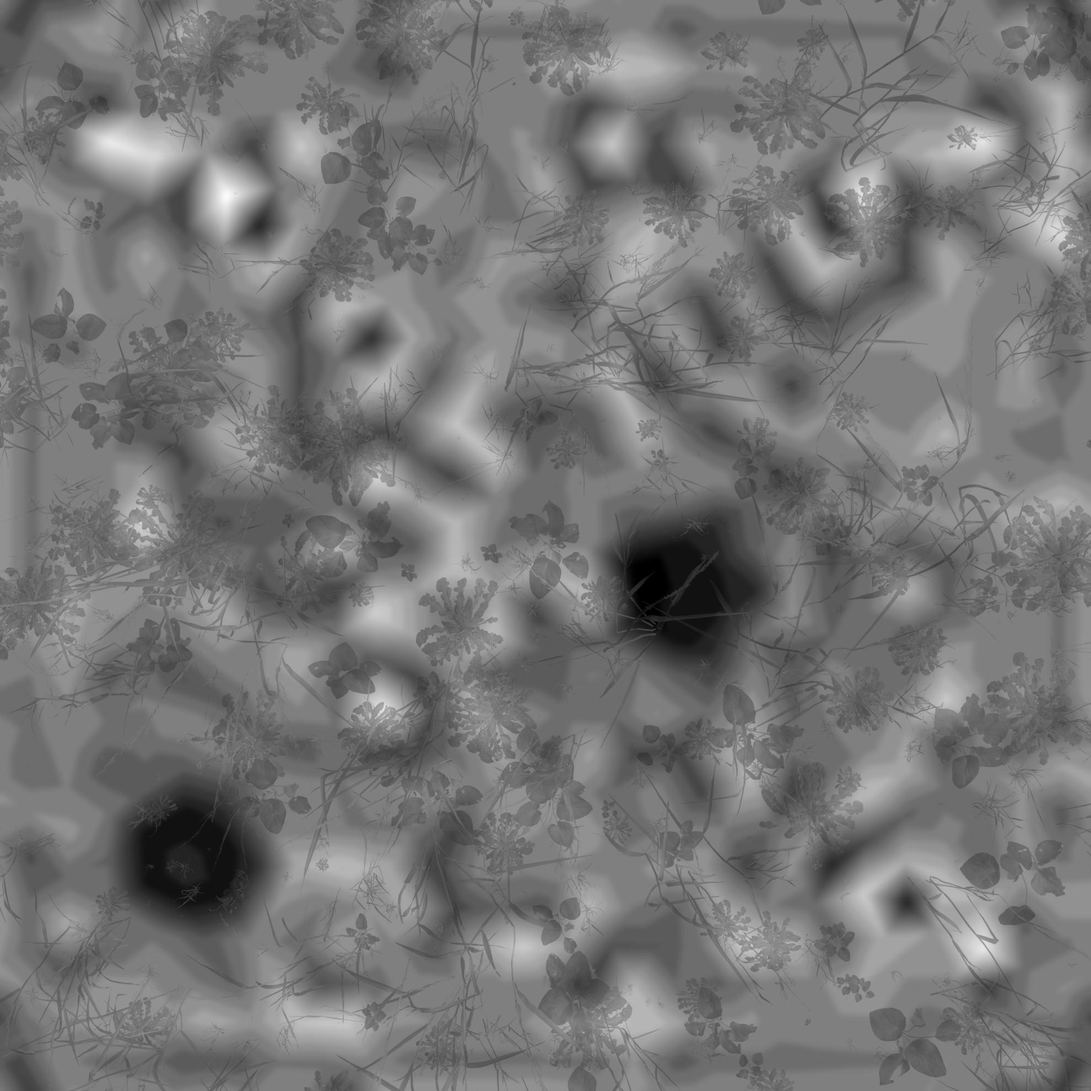landmine: (600, 511, 758, 658), (120, 791, 252, 926)
